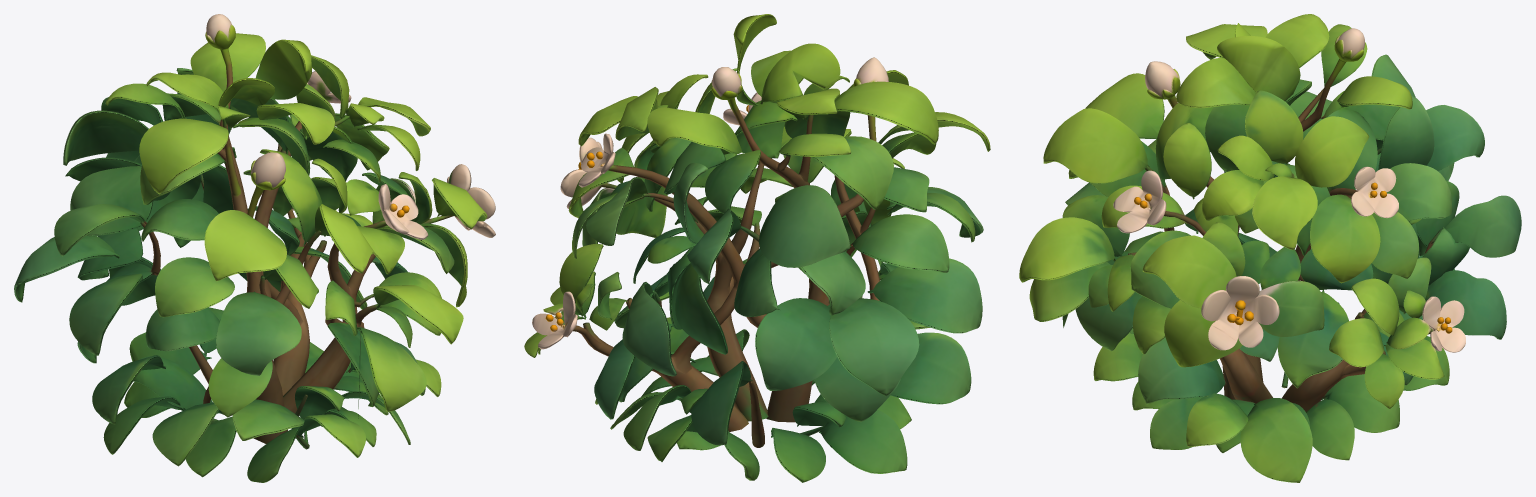
The model's file is C40_shrub_leafy.fbx.
The picture shows the model from 3 angles, left to right: view 1: azimuth 30°, elevation 25°; view 2: azimuth 150°, elevation 25°; view 3: azimuth 270°, elevation 25°; orthographic projection. The views are drawn at different scales.
Visible parts, largest first — view 1: tripo_node_bd7edbbf; view 2: tripo_node_bd7edbbf; view 3: tripo_node_bd7edbbf.
Part boxes in pixels (x1,y1,x2,y2): tripo_node_bd7edbbf: (14, 14, 495, 482); tripo_node_bd7edbbf: (524, 14, 990, 482); tripo_node_bd7edbbf: (1019, 14, 1521, 482).
Size of the model in its own units: 0.9136 by 0.8452 by 0.9995.
